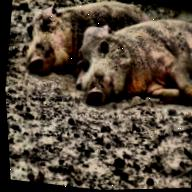boar: (67, 8, 192, 117), (19, 0, 158, 82)
